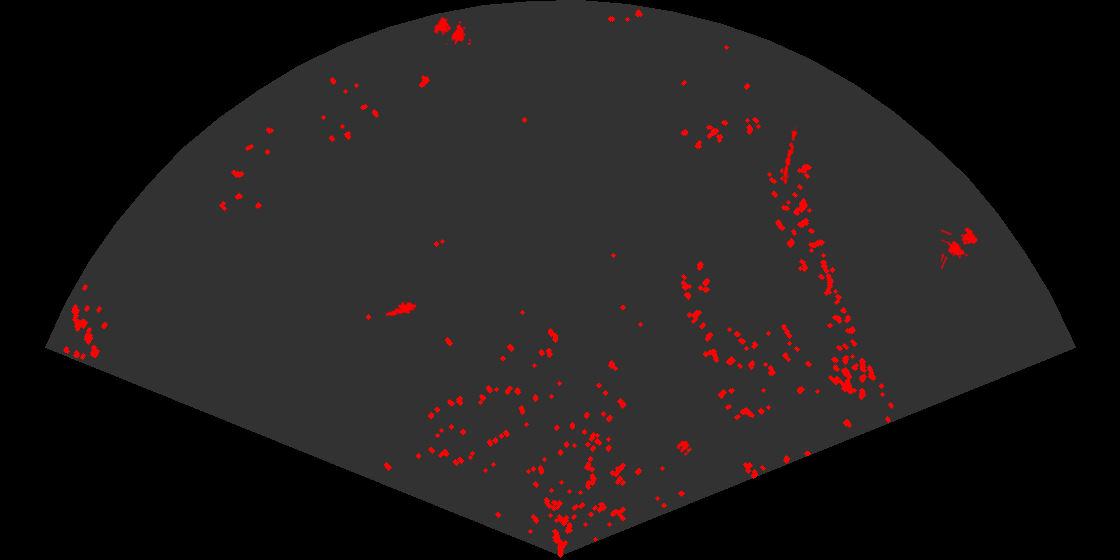ball: (675, 439, 694, 457)
cage: (941, 226, 979, 269), (432, 16, 471, 45)
chain: (781, 126, 799, 185)
frogman: (385, 300, 416, 318)
